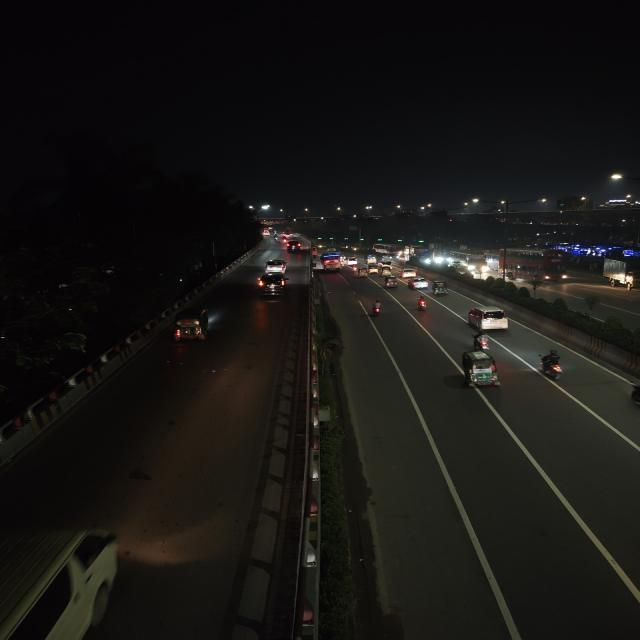bus: (503, 252, 568, 284), (453, 250, 488, 273), (411, 246, 435, 264), (320, 254, 342, 272), (373, 243, 398, 257)
car: (0, 518, 138, 640), (466, 304, 510, 332), (257, 273, 288, 290), (262, 259, 289, 274), (408, 277, 430, 289), (398, 267, 417, 279), (286, 240, 303, 252)
cng: (172, 306, 214, 347), (460, 350, 503, 390), (382, 273, 400, 290), (432, 280, 448, 295), (367, 264, 381, 275)
motorcycle: (536, 348, 572, 384), (623, 377, 640, 420), (471, 332, 492, 352), (368, 298, 385, 318), (414, 294, 429, 312)
truck: (602, 256, 640, 289)
